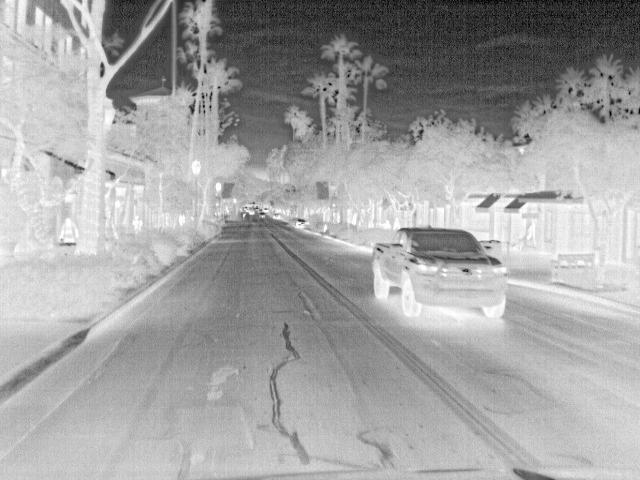car: (371, 226, 511, 319), (293, 218, 309, 230), (274, 212, 283, 221)
person: (58, 216, 81, 246), (132, 213, 145, 232), (389, 216, 402, 230), (381, 218, 395, 230)
